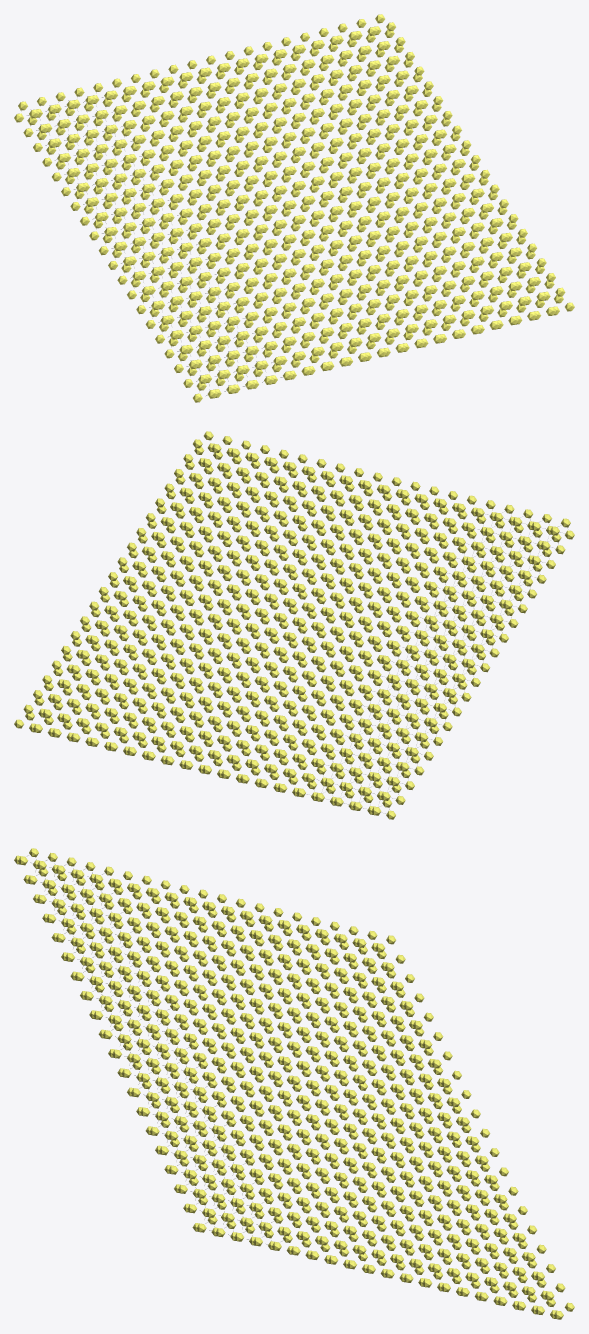
File: mos2_sheet.glb
The picture shows the model from 3 angles, top to bottom: view 1: azimuth 30°, elevation 25°; view 2: azimuth 150°, elevation 25°; view 3: azimuth 330°, elevation 25°; orthographic projection.
Bounding box in the file's own units: 92.92 × 54.19 × 4.47.
